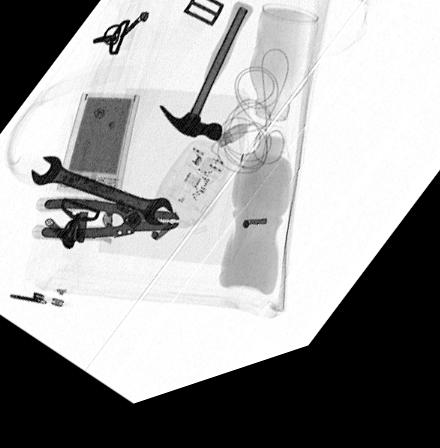Hammer: (160, 15, 254, 155)
Pliers: (30, 200, 180, 247)
Powerbank: (58, 97, 139, 203)
Wrench: (30, 160, 175, 235)
